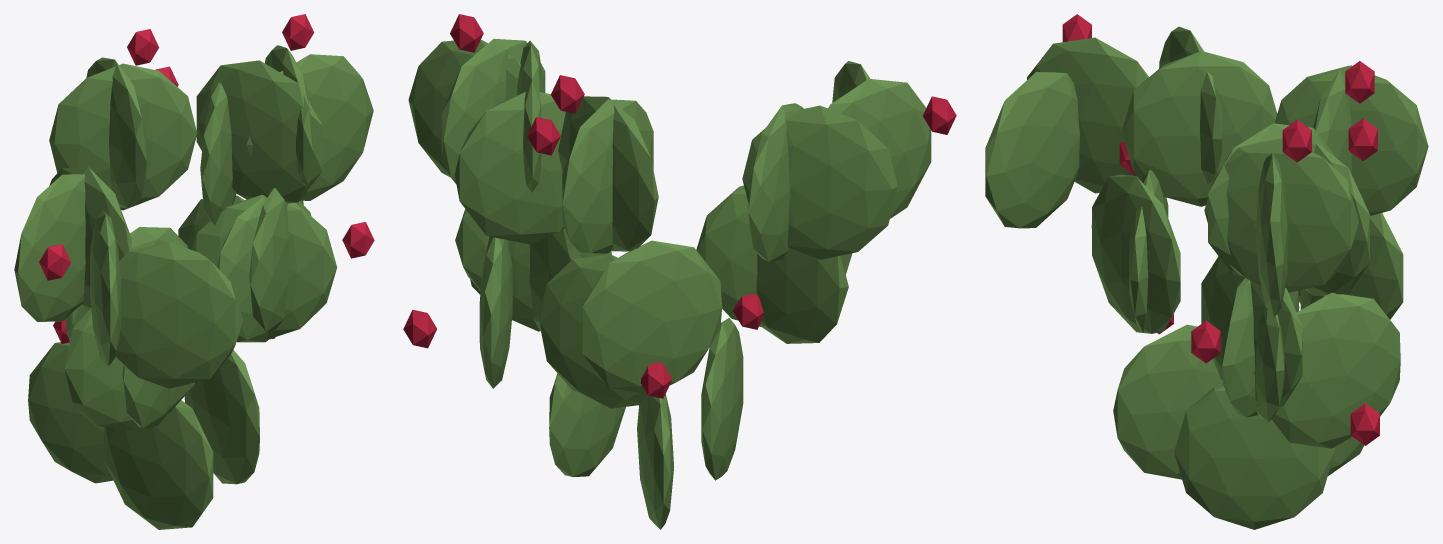
The model's file is DE_Plant_PricklyPear.obj.
3 renders of one model, left to right at view 1: azimuth 30°, elevation 25°; view 2: azimuth 150°, elevation 25°; view 3: azimuth 270°, elevation 25°, orthographic. The views are drawn at different scales.
Parts seen in each view (by area): view 1: pad_9, pad_16, pad_2, pad_7, pad_13, pad_6, pad_4, pad_0, pad_14, pad_11, pad_17, pad_20 (+12 smaller); view 2: pad_15, pad_13, pad_3, pad_17, pad_11, pad_18, pad_16, pad_10, pad_7, pad_5, pad_12, pad_0 (+16 smaller); view 3: pad_0, pad_12, pad_19, pad_5, pad_9, pad_7, pad_8, pad_17, pad_10, pad_20, pad_6, pad_4 (+14 smaller).
Boxes of the visible parts, x1,y1,x2,y2 form: pad_9: (115,242,242,388); pad_16: (49,63,197,210); pad_2: (196,60,322,203); pad_7: (104,400,213,529); pad_13: (14,174,85,321); pad_6: (246,54,373,200); pad_4: (192,195,337,339); pad_0: (184,350,259,484); pad_14: (28,342,113,483); pad_11: (64,308,194,430); pad_17: (86,57,146,208); pad_20: (249,188,303,332); pad_15: (581,240,722,393); pad_13: (742,105,897,259); pad_3: (455,92,565,244); pad_17: (562,99,653,253); pad_11: (756,248,848,343); pad_18: (538,254,643,408); pad_16: (558,96,658,251); pad_10: (828,79,931,218); pad_7: (701,318,743,480); pad_5: (441,38,545,184); pad_12: (748,103,803,261); pad_0: (549,373,625,477); pad_0: (1174,384,1334,529); pad_12: (1122,51,1277,206); pad_19: (1271,292,1400,448); pad_5: (1204,138,1358,292); pad_9: (985,72,1079,228); pad_7: (1113,324,1222,479); pad_8: (1091,174,1180,333); pad_17: (1274,65,1428,215); pad_10: (1027,37,1148,193); pad_20: (1201,256,1302,406); pad_6: (1256,153,1288,317); pad_4: (1222,278,1299,417).
Size of the model in its own units: 4.53 by 4.39 by 3.86.
